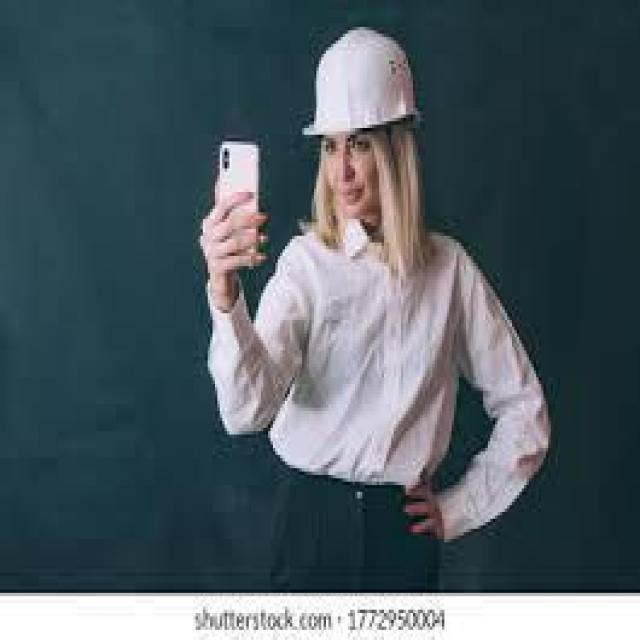helmet: (302, 27, 420, 135)
